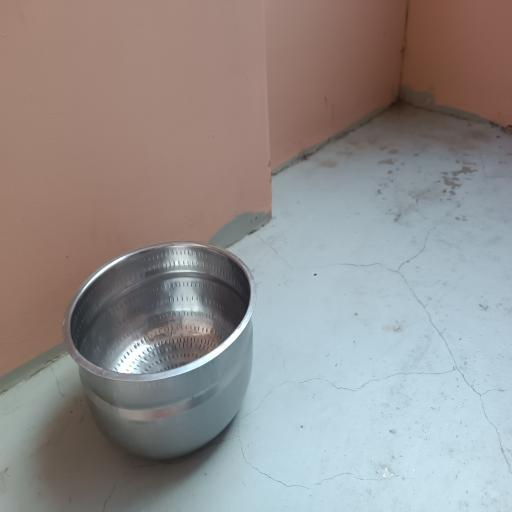vessel: (63, 242, 256, 459)
